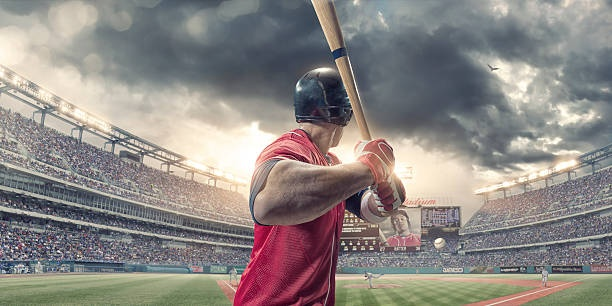bita: (309, 2, 370, 150)
